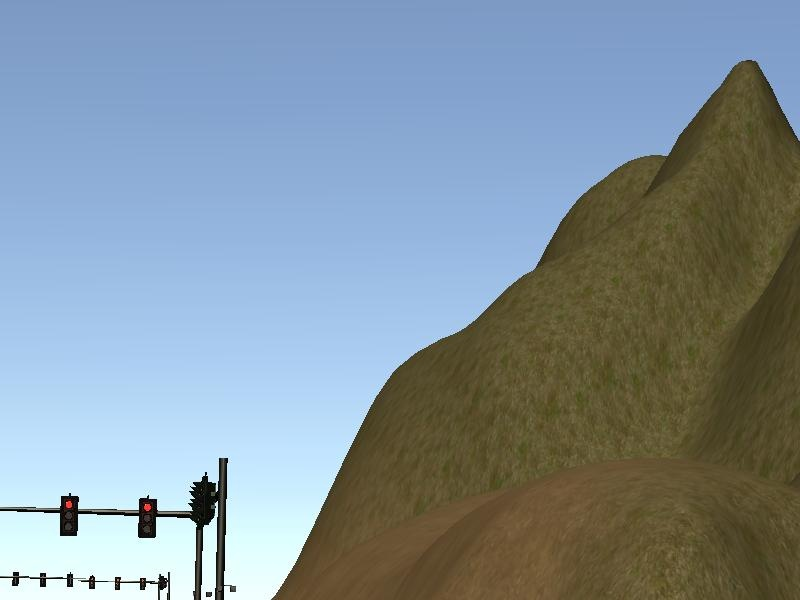red: (60, 492, 80, 535), (138, 498, 155, 537)
